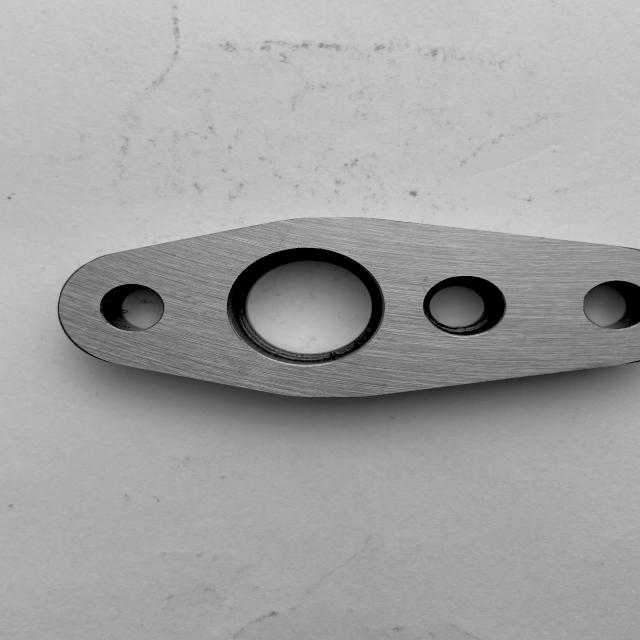lines: (416, 272, 430, 294)
